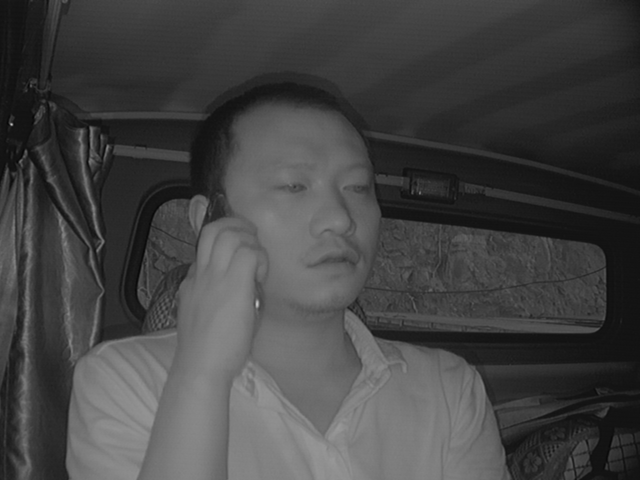hand: (174, 214, 268, 372)
